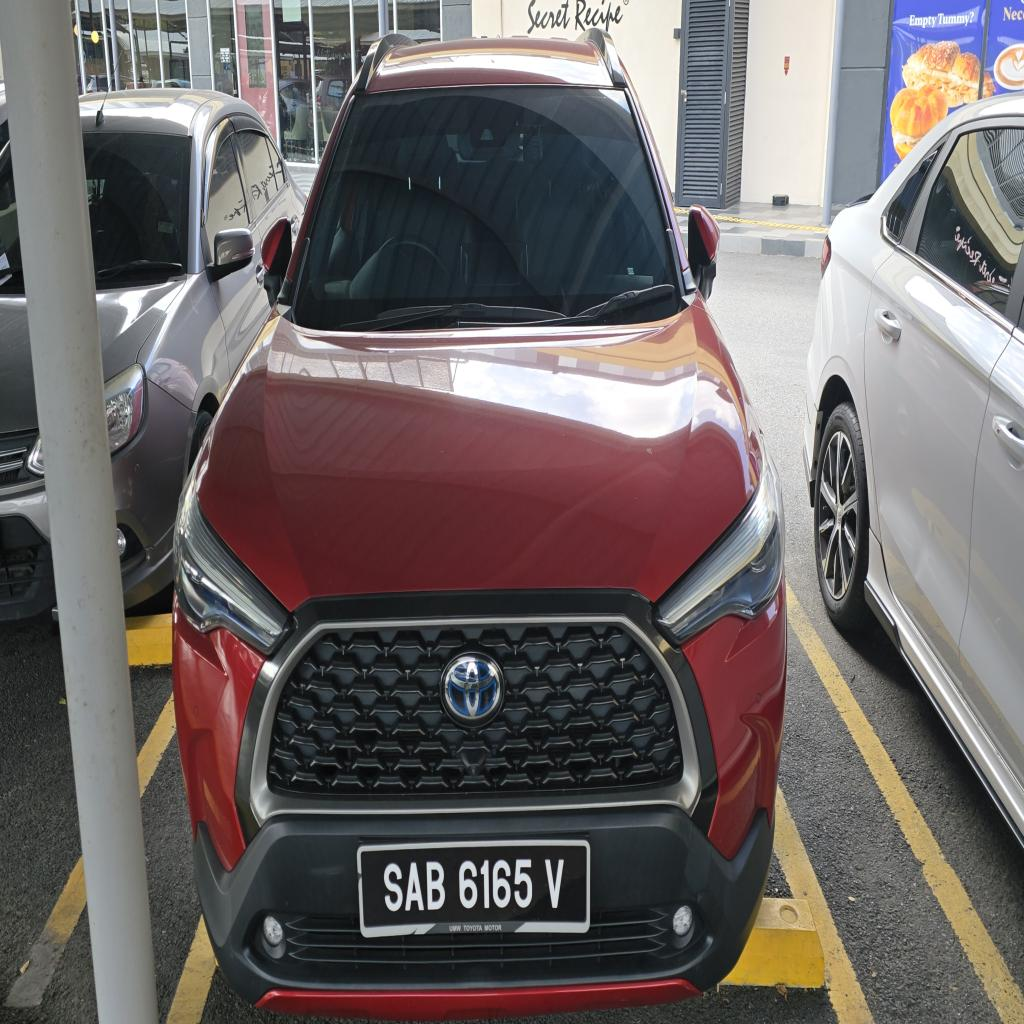car: (174, 31, 786, 1019)
car plate: (358, 840, 589, 936)
